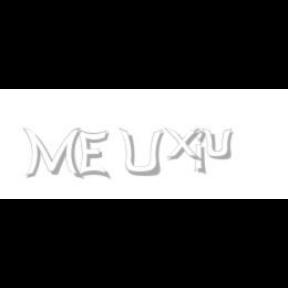E: (76, 128, 110, 180)
M: (22, 128, 82, 180)
U: (118, 128, 163, 178)
i: (194, 128, 210, 176)
u: (202, 128, 236, 160)
x: (164, 128, 206, 162)
